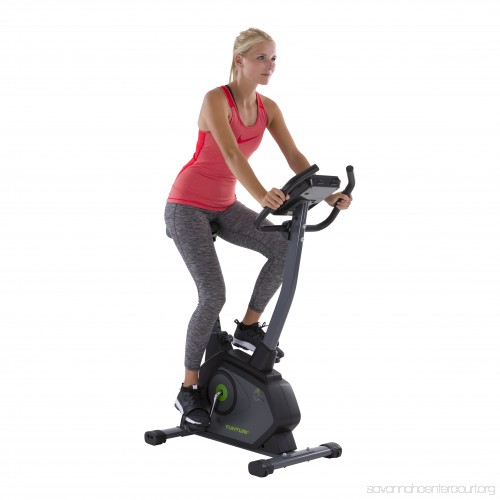gym_bike: (135, 169, 355, 476)
